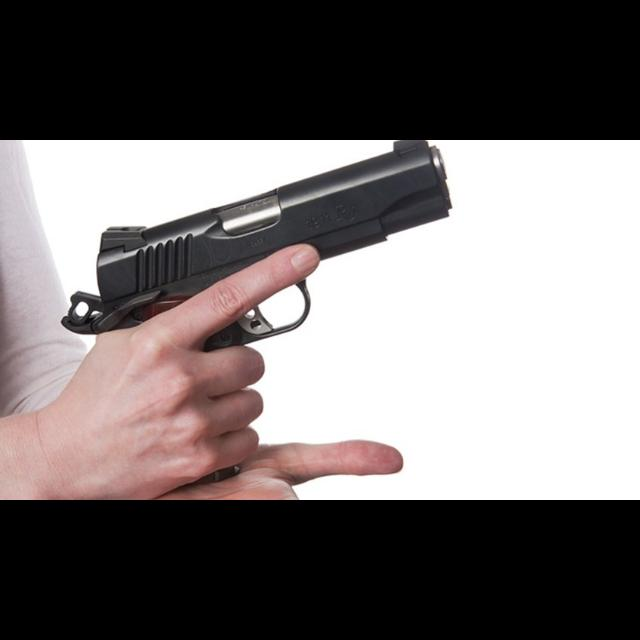handgun: (58, 140, 456, 356)
